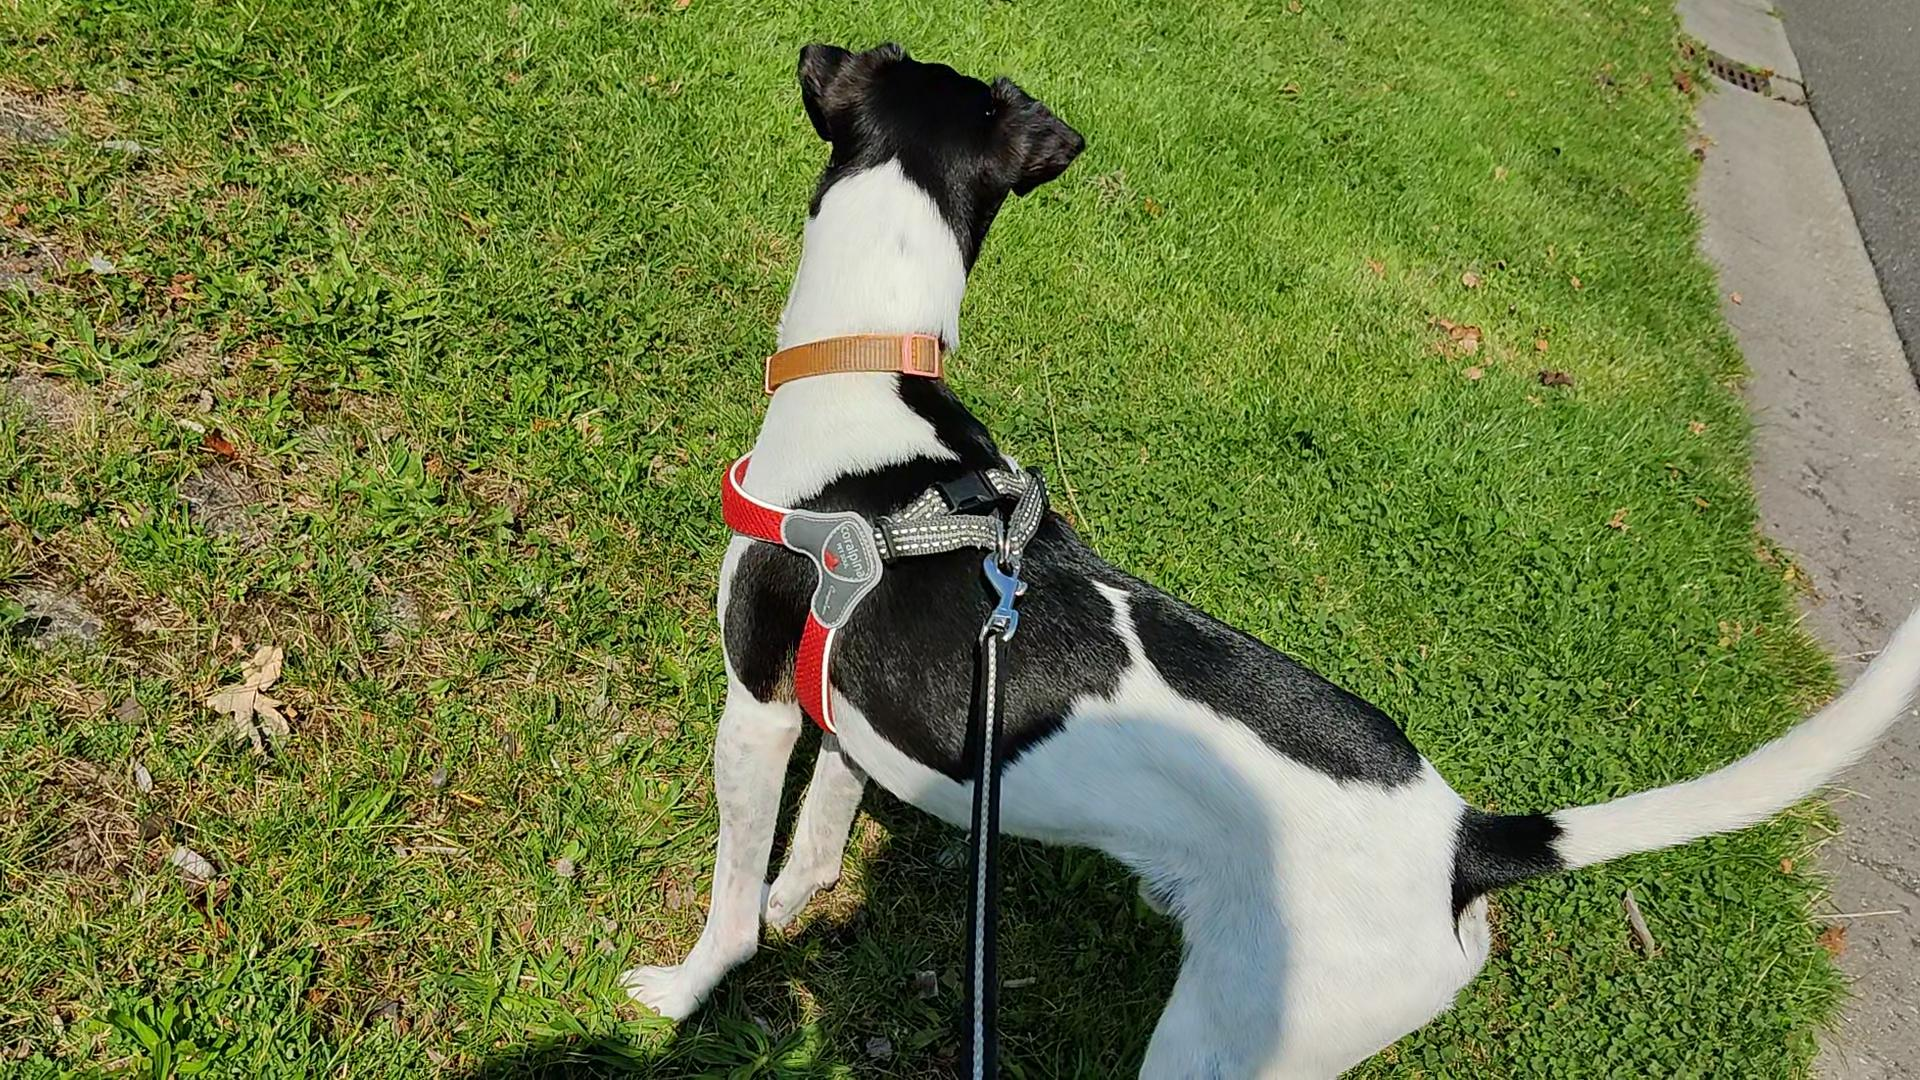Dog: (613, 36, 1919, 1079)
